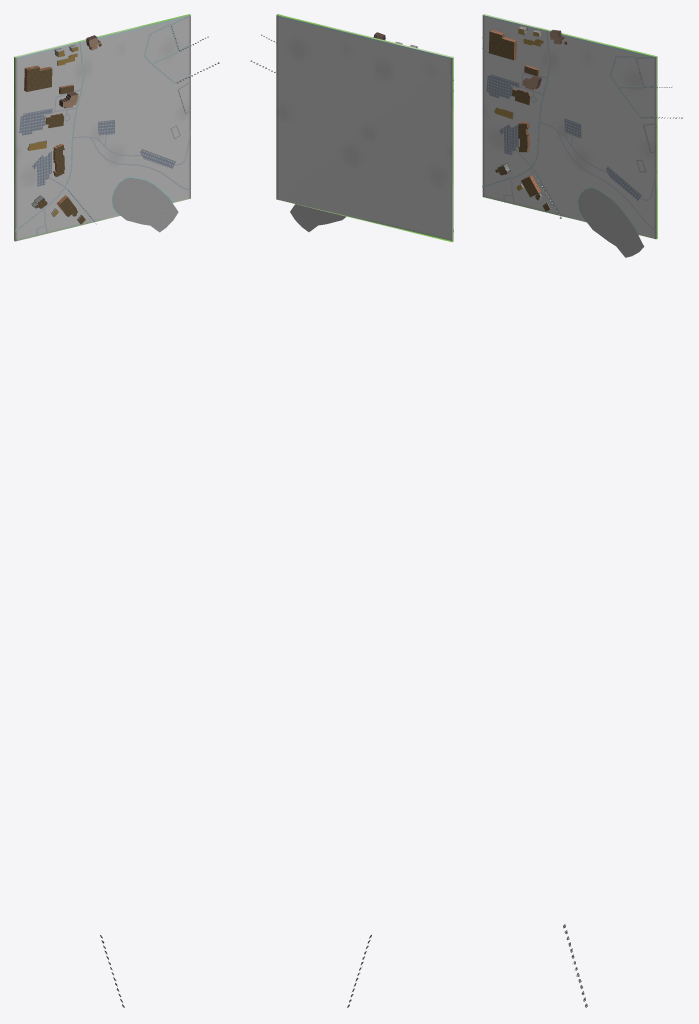
The picture shows the model from 3 angles, left to right: view 1: azimuth 30°, elevation 25°; view 2: azimuth 150°, elevation 25°; view 3: azimuth 330°, elevation 25°; orthographic projection.
Visible parts, largest first — view 1: POLYGON, BUILDING, POLYLINE; view 2: POLYGON; view 3: POLYGON, BUILDING, POLYLINE.
Part boxes in pixels (x1,y1,x2,y2): POLYGON: (14,14,190,241); BUILDING: (24,35,101,224); POLYLINE: (15,15,190,236); POLYGON: (276,14,453,242); POLYGON: (482,14,657,257); BUILDING: (488,26,567,211); POLYLINE: (482,30,656,234).
Size of the model in its own units: 710 by 3255 by 29.
Materials: 4 (4 with a texture image).
